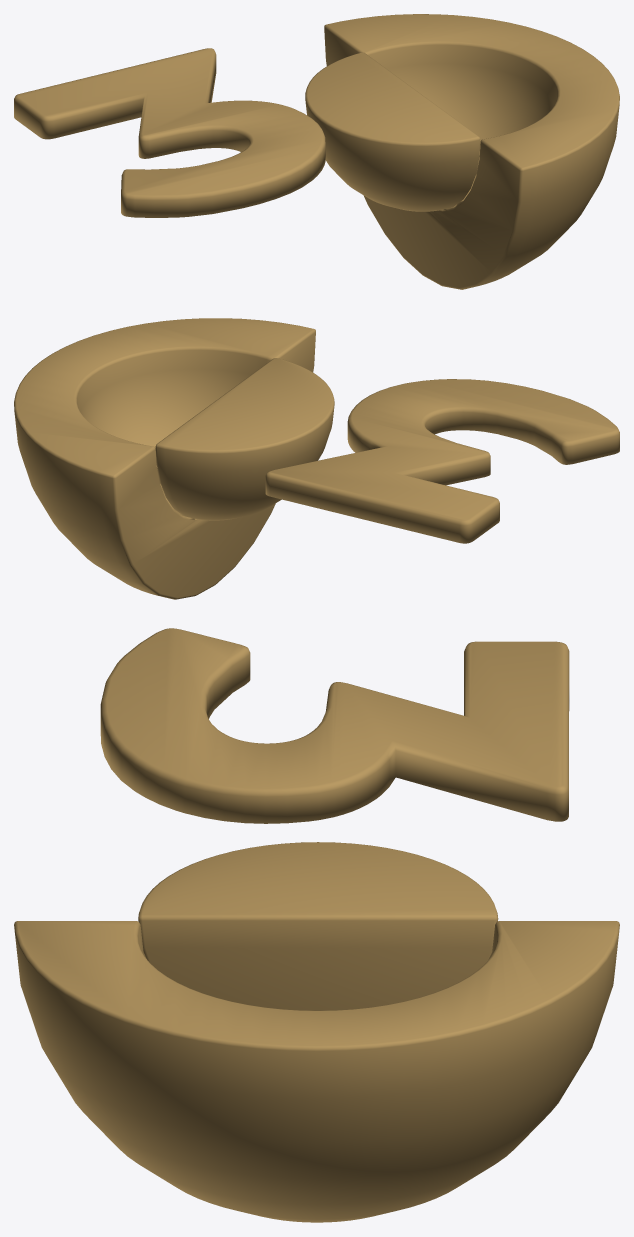
The model's file is compass30d.gltf.
3 views of the same model, one above another, from view 1: azimuth 30°, elevation 25°; view 2: azimuth 150°, elevation 25°; view 3: azimuth 270°, elevation 25° (orthographic). The views are drawn at different scales.
Visible parts, largest first — view 1: Curve.004, Curve.007, Sphere.001; view 2: Curve.004, Curve.007, Sphere.001; view 3: Curve.004, Curve.007, Sphere.001.
Boxes of the visible parts, bbox=[...] form: Curve.004: bbox=[324, 14, 619, 289]; Curve.007: bbox=[14, 48, 325, 217]; Sphere.001: bbox=[305, 52, 480, 211]; Curve.004: bbox=[14, 318, 315, 599]; Curve.007: bbox=[265, 379, 619, 543]; Sphere.001: bbox=[155, 358, 334, 520]; Curve.004: bbox=[14, 921, 619, 1222]; Curve.007: bbox=[100, 628, 569, 823]; Sphere.001: bbox=[138, 842, 498, 1010].
Size of the model in its own units: 2.45 by 0.9129 by 1.62.
